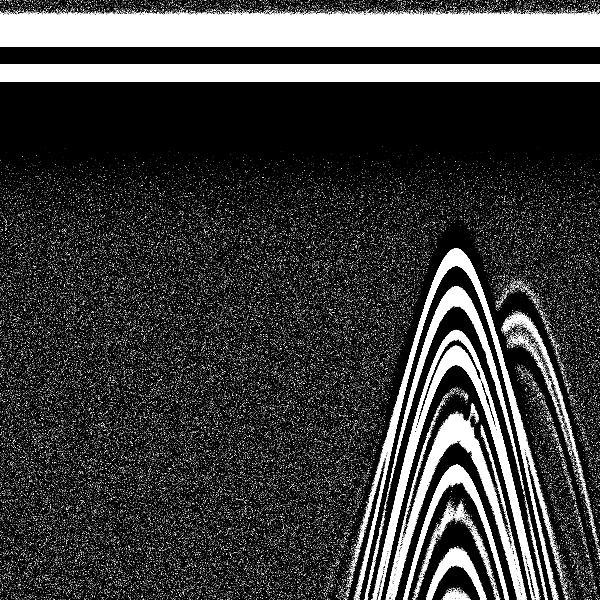pipe: (469, 5, 568, 376), (402, 5, 506, 348)
